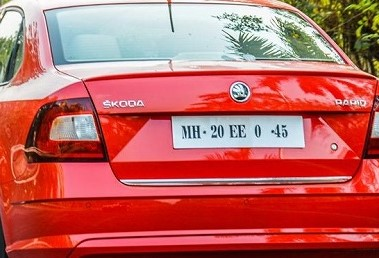MH20EE045: (170, 115, 305, 148)
